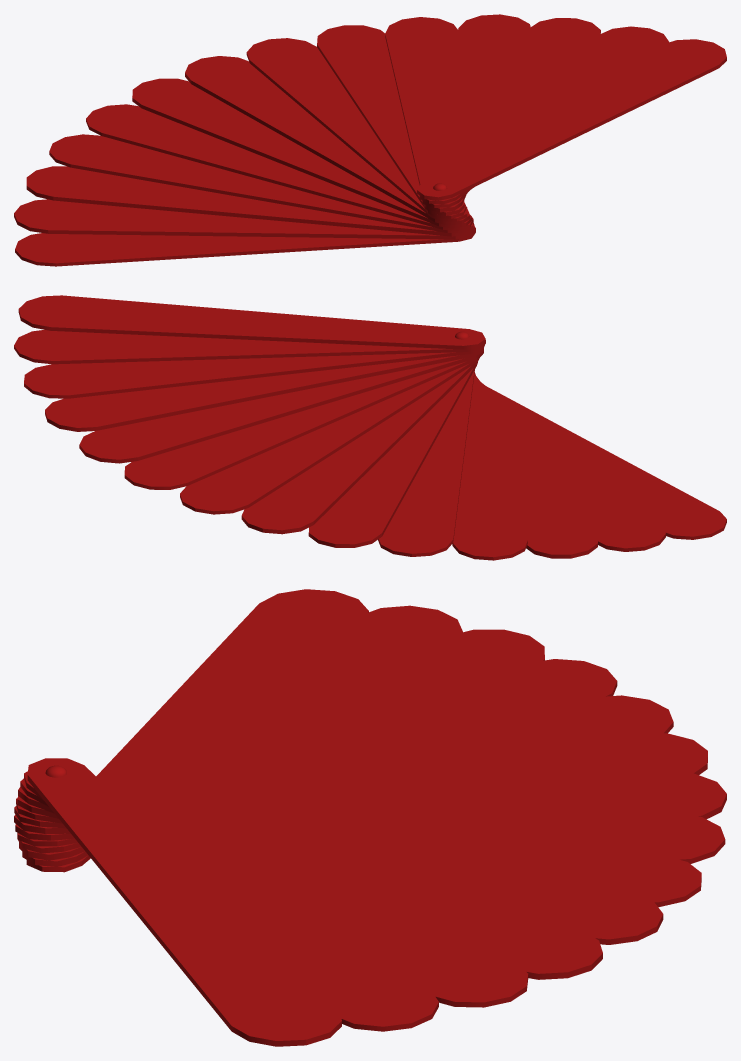
File: LP_FAN3.fbx
3 renders of one model, top to bottom at view 1: azimuth 30°, elevation 25°; view 2: azimuth 150°, elevation 25°; view 3: azimuth 270°, elevation 25°, orthographic. The views are drawn at different scales.
Parts seen in each view (by area): view 1: stik_1_low, stik_4_low2, stik_1_low3, stik_3_low2, stik_2_low3, stik_2_low2, stik_1_low2, stik_4_low1, stik_3_low1, stik_2_low1, stik_1_low1, stik_3_low (+2 smaller); view 2: stik_1_low, stik_3_low, stik_1_low1, stik_4_low, stik_2_low, stik_3_low1, stik_2_low1, stik_4_low1, stik_3_low2, stik_1_low2, stik_2_low2, stik_4_low2 (+2 smaller); view 3: stik_1_low, stik_3_low, stik_2_low, stik_4_low, stik_1_low1, stik_3_low1, stik_3_low2, stik_4_low2, stik_2_low3, stik_1_low3, stik_4_low1, stik_2_low1 (+2 smaller).
Part boxes in pixels (x1,y1,x2,y2): stik_1_low: [417, 39, 726, 200]; stik_4_low2: [26, 166, 474, 236]; stik_1_low3: [14, 199, 475, 239]; stik_3_low2: [49, 134, 473, 233]; stik_2_low3: [15, 232, 475, 266]; stik_2_low2: [86, 104, 473, 230]; stik_1_low2: [132, 78, 472, 228]; stik_4_low1: [185, 56, 470, 225]; stik_3_low1: [246, 38, 467, 221]; stik_2_low1: [317, 25, 466, 218]; stik_1_low1: [385, 17, 464, 215]; stik_3_low: [422, 18, 600, 207]; stik_1_low: [18, 295, 485, 349]; stik_3_low: [24, 345, 484, 398]; stik_1_low1: [79, 352, 483, 463]; stik_4_low: [45, 348, 483, 431]; stik_2_low: [14, 329, 485, 364]; stik_3_low1: [180, 358, 479, 514]; stik_2_low1: [124, 354, 482, 489]; stik_4_low1: [241, 362, 477, 534]; stik_3_low2: [452, 372, 527, 560]; stik_1_low2: [308, 365, 476, 547]; stik_2_low2: [378, 370, 474, 556]; stik_4_low2: [476, 376, 597, 558]; stik_1_low: [27, 758, 341, 1046]; stik_3_low: [20, 778, 528, 1007]; stik_2_low: [24, 771, 438, 1031]; stik_4_low: [18, 787, 602, 979]; stik_1_low1: [17, 796, 663, 944]; stik_3_low1: [14, 798, 725, 863]; stik_3_low2: [17, 659, 617, 853]; stik_4_low2: [19, 629, 544, 860]; stik_2_low3: [26, 589, 368, 872]; stik_1_low3: [22, 605, 462, 866]; stik_4_low1: [14, 771, 726, 833]; stik_2_low1: [16, 798, 701, 907].
Bounding box in the file's own units: 48.24 × 3.78 × 27.83.
